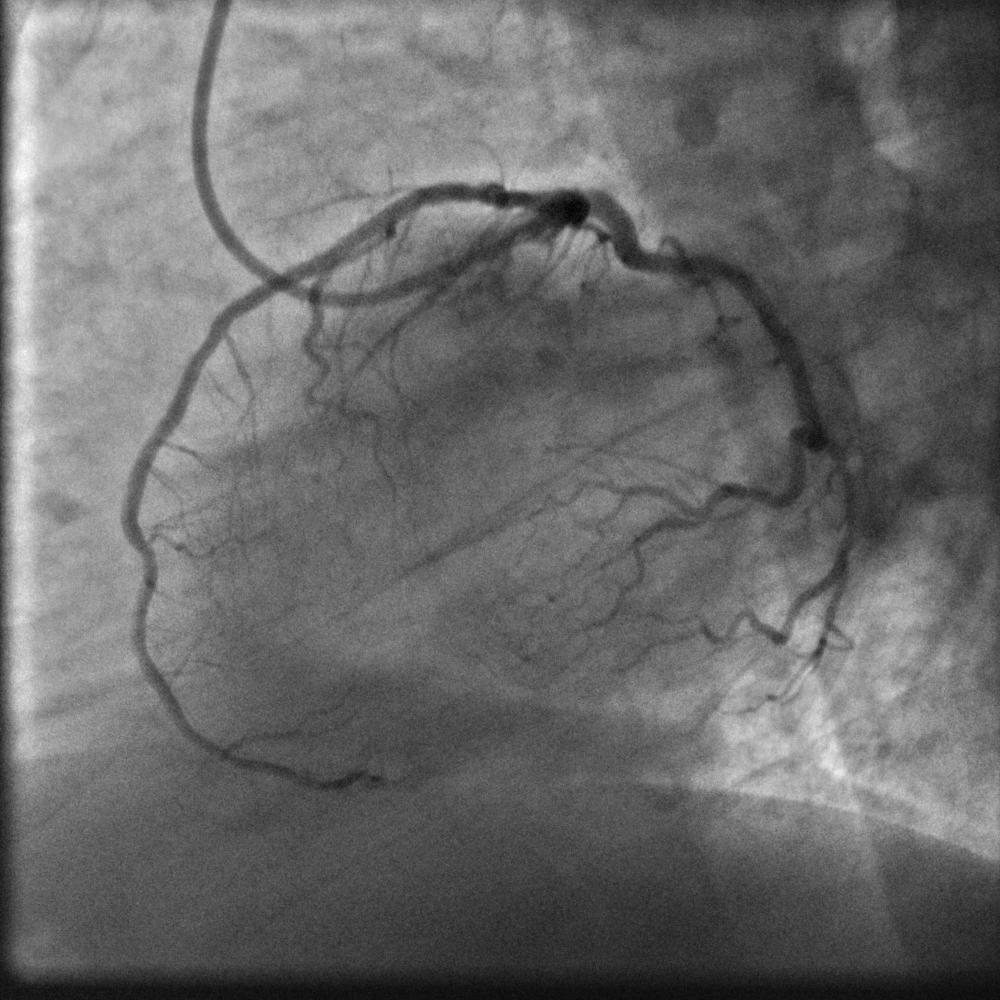Stenosis: (460, 179, 498, 208)
